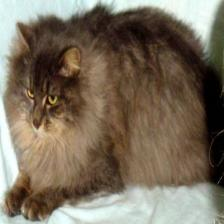cat: (10, 18, 91, 152)
